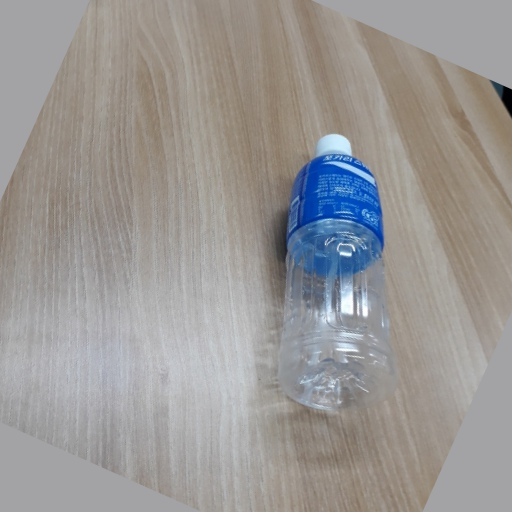Plastic_0: (270, 132, 393, 415)
